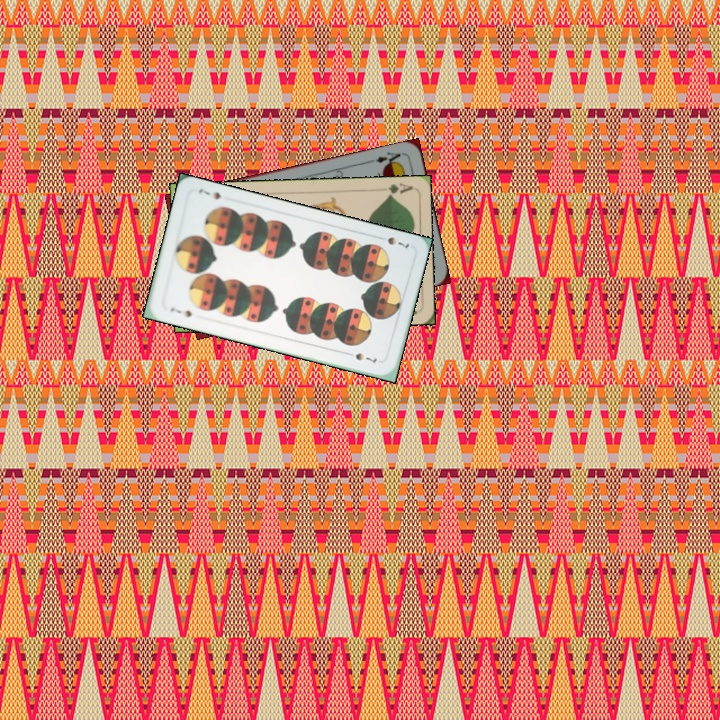EA: (365, 148, 406, 169)
GA: (384, 179, 414, 200)
S7: (374, 232, 413, 251), (166, 303, 194, 320)
